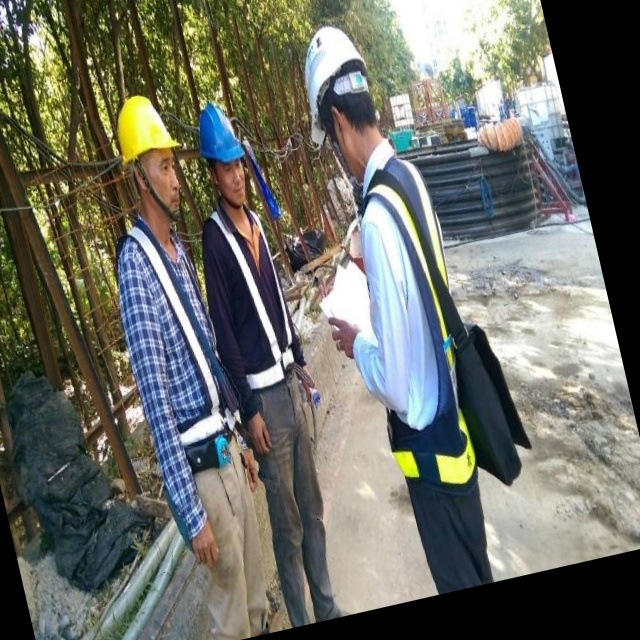Con_Casco: (110, 89, 187, 221), (193, 95, 255, 211)
Con_Chaleco: (329, 157, 501, 488), (194, 186, 312, 397)
